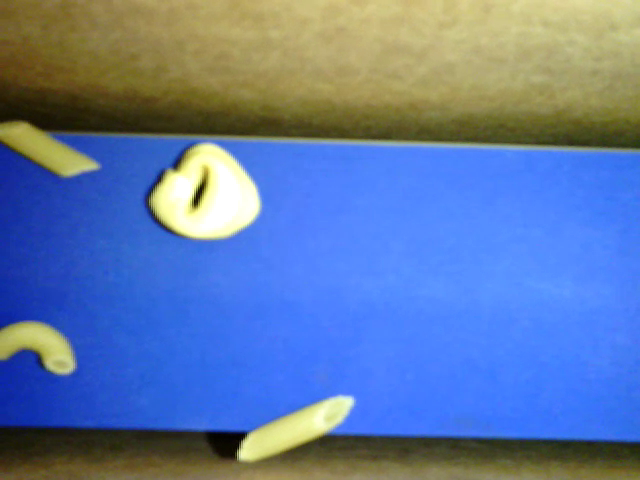elbow: (1, 322, 77, 375)
penne: (236, 392, 354, 463), (1, 120, 101, 177)
tortellini: (148, 141, 259, 238)
